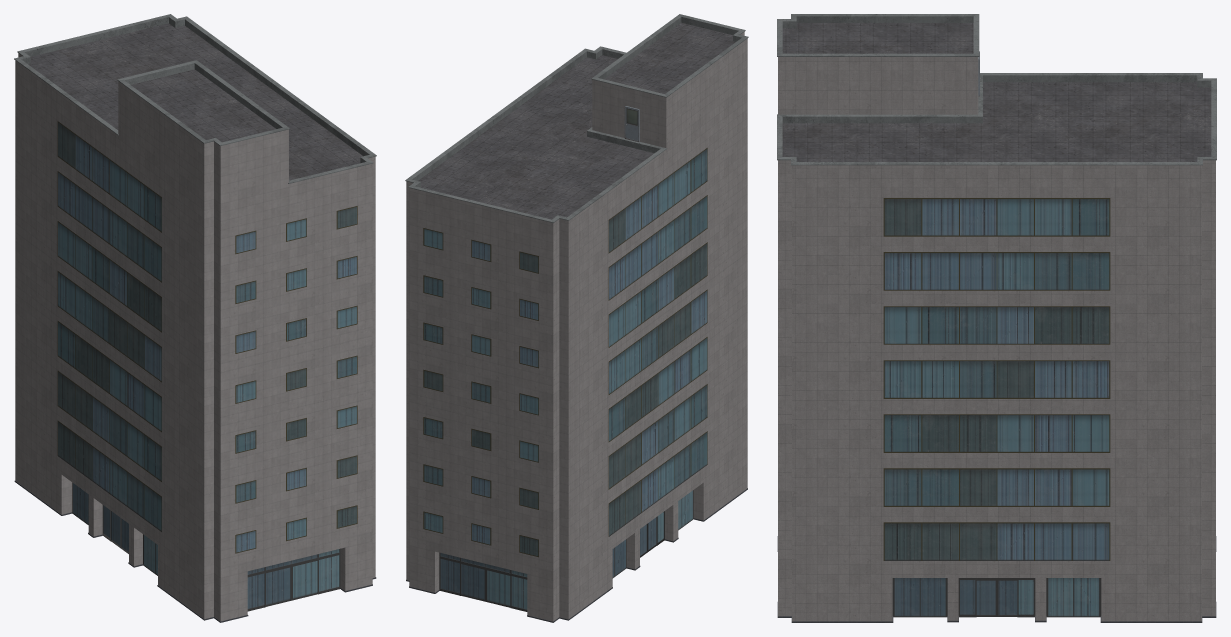
Rendered from jctBld24_12C_low.fbx.
3 renders of one model, left to right at view 1: azimuth 30°, elevation 25°; view 2: azimuth 150°, elevation 25°; view 3: azimuth 270°, elevation 25°, orthographic. The views are drawn at different scales.
Parts seen in each view (by area): view 1: jctBld24_12C_low; view 2: jctBld24_12C_low; view 3: jctBld24_12C_low.
Part boxes in pixels (x1=…): jctBld24_12C_low: x1=14, y1=14, x2=376, y2=622; jctBld24_12C_low: x1=405, y1=14, x2=748, y2=622; jctBld24_12C_low: x1=777, y1=14, x2=1216, y2=622.
Bounding box in the file's own units: 1160 × 3065 × 2360.
